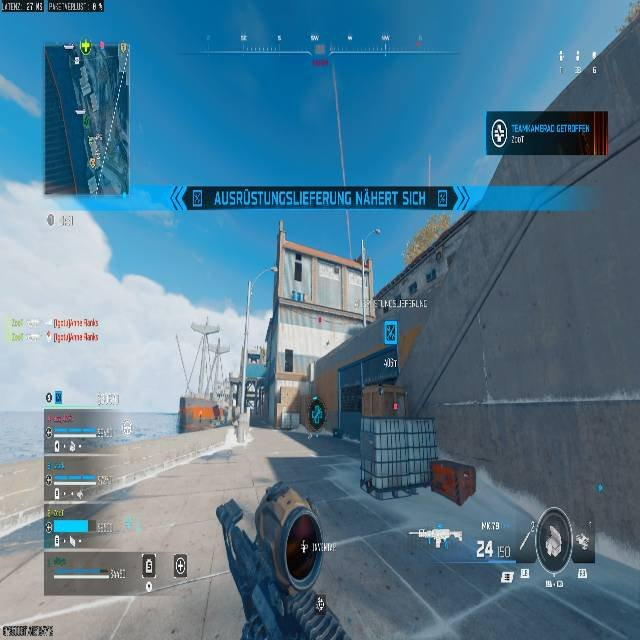player: (226, 406, 243, 445), (307, 396, 325, 431)
